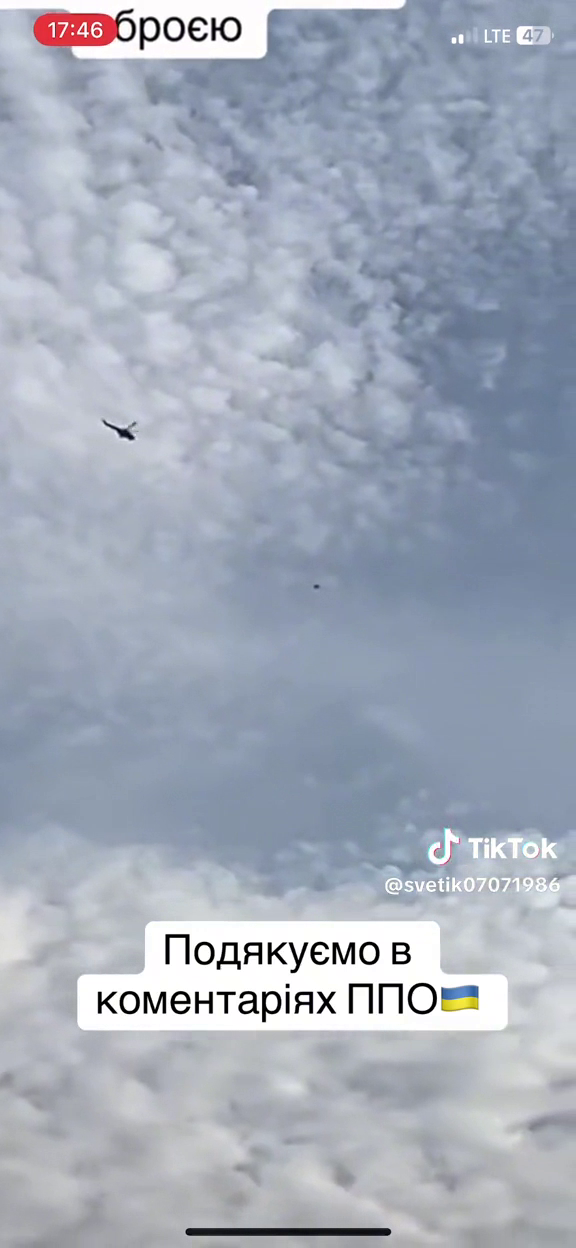not_drone: (98, 412, 146, 446)
